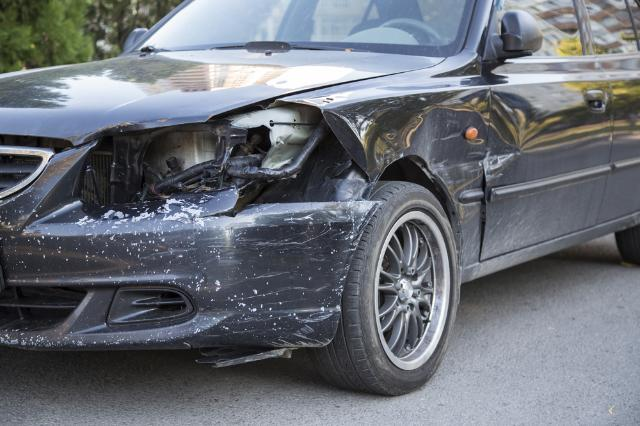crack: (193, 194, 247, 220)
dent: (428, 88, 491, 190), (483, 95, 523, 178)
dislocated part: (39, 134, 377, 358)
lamp broken: (81, 101, 326, 218)
scratch: (142, 202, 377, 353)
